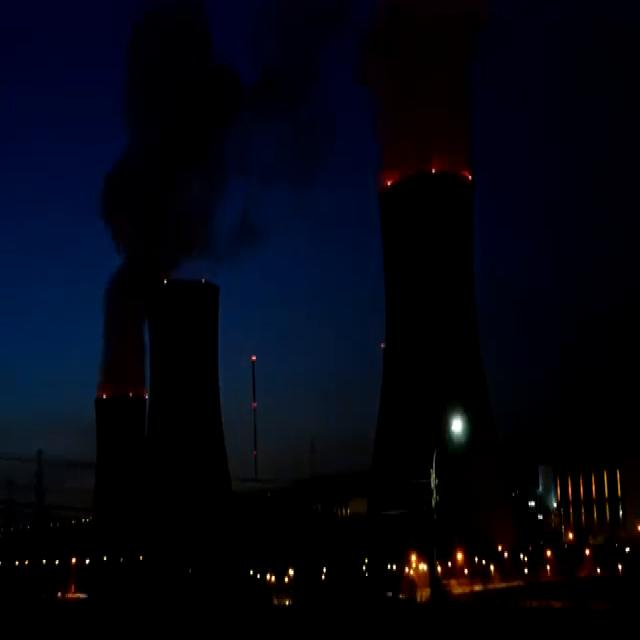smoke: (98, 0, 349, 398), (377, 0, 486, 185)
